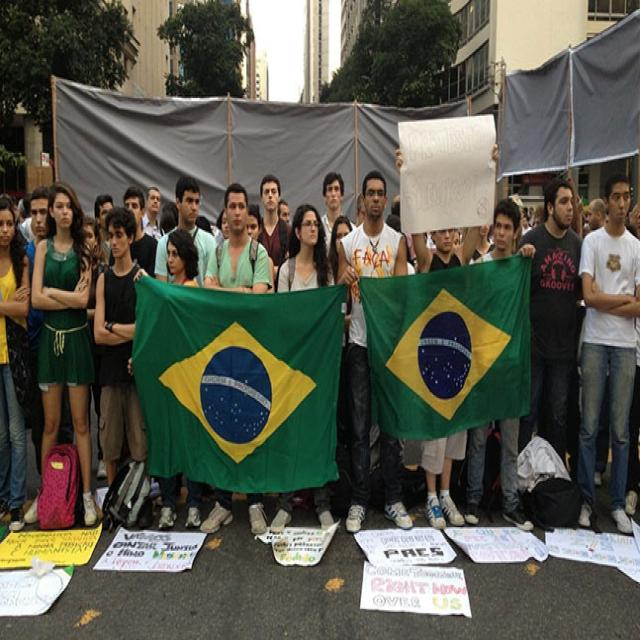body: (393, 141, 502, 532), (194, 181, 273, 536), (22, 178, 101, 527), (338, 169, 412, 530), (462, 196, 537, 533), (130, 229, 206, 536), (269, 202, 336, 533), (576, 173, 635, 538), (519, 175, 584, 464), (93, 205, 149, 491), (0, 190, 31, 535), (20, 186, 51, 477), (153, 175, 222, 290), (109, 187, 159, 278), (626, 189, 639, 527), (256, 172, 292, 293), (320, 171, 358, 258), (590, 373, 615, 496), (143, 173, 177, 234), (328, 212, 354, 284), (452, 224, 495, 264), (402, 230, 435, 276), (192, 200, 231, 238), (511, 192, 543, 232), (577, 192, 603, 232), (11, 186, 32, 234), (383, 184, 402, 233), (92, 192, 114, 232), (243, 202, 261, 248), (353, 187, 368, 227), (276, 193, 292, 229)
